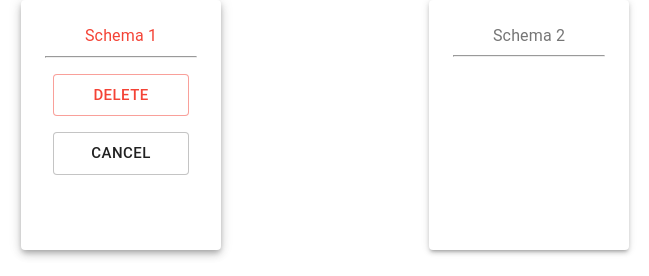
Scenario: SchemasBoard with "activeSchemaId" › SchemasBoard is displayed back when "Cancel" button is clicked ("mode" = "DELETE")
Click the button "Cancel": {"x": 121, "y": 153} [53, 132, 189, 175]
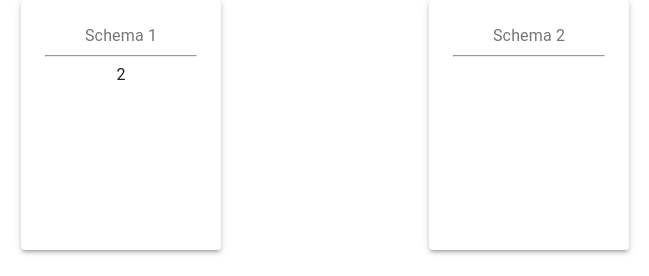
Expected: the button "Schema 2" is shown, [429, 0, 629, 250]
Expected: the button "Schema 1 2" is shown, [21, 0, 221, 250]
